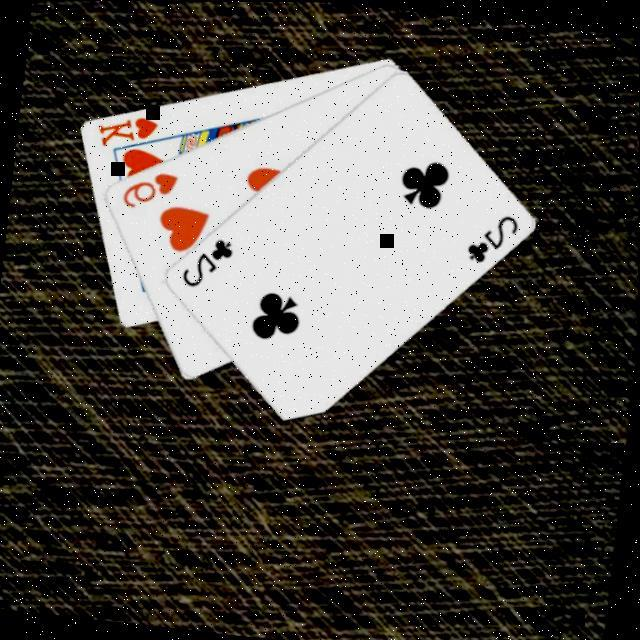2C: (462, 205, 524, 269), (178, 230, 238, 293)
6H: (119, 163, 183, 215)
KH: (94, 107, 163, 153)
